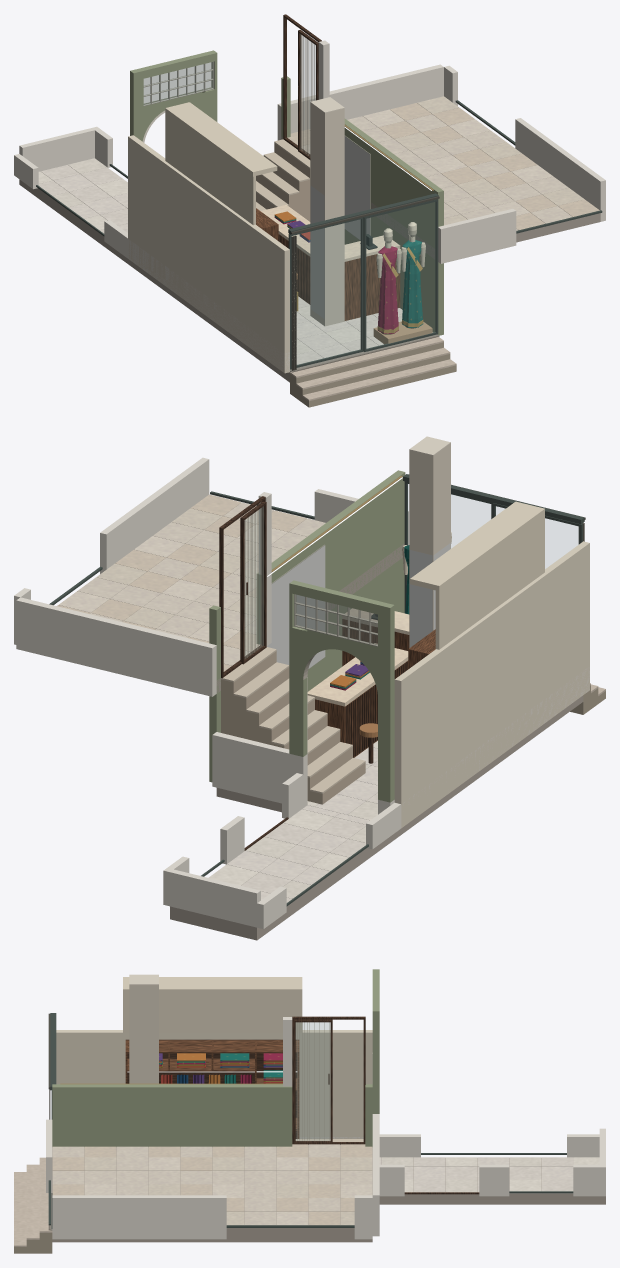
The model's file is Boutique-cove.glb.
The picture shows the model from 3 angles, top to bottom: view 1: azimuth 30°, elevation 25°; view 2: azimuth 150°, elevation 25°; view 3: azimuth 270°, elevation 25°; orthographic projection. The views are drawn at different scales.
Parts seen in each view (by area): view 1: Room shell and flooring, Sliding entrance - fixed glass display, Sliding entrance - closed left glass leaf, Cove lighting, shelf strips and retained soffit, Frontage steps, Stair and sliding door to mezzanine, Existing pillar, Right partition, Rear arched opening to side room C, Cash counter - flush to pillar and wall, Mirror 1 - right partition opposite shelf, Existing glazed transom over rear arch to C (+6 smaller); view 2: Room shell and flooring, Stair and sliding door to mezzanine, Cove lighting, shelf strips and retained soffit, Rear arched opening to side room C, Right partition, Existing pillar, Central sales counter and seating, Mirror 1 - right partition opposite shelf, Existing glazed transom over rear arch to C, Sliding entrance - fixed glass display, Mirror 3 - pillar face toward central counter, Cash counter - flush to pillar and wall (+2 smaller); view 3: Room shell and flooring, Right partition, Cove lighting, shelf strips and retained soffit, Stair and sliding door to mezzanine, Inward-facing saree shelf, Existing pillar, Frontage steps, Rear arched opening to side room C, Sliding entrance - upper rail and street steps.
Boxes of the visible parts, x1,y1,x2,y2 form: Room shell and flooring: (14,64,605,382); Sliding entrance - fixed glass display: (363,199,438,351); Sliding entrance - closed left glass leaf: (288,217,363,369); Cove lighting, shelf strips and retained soffit: (165,102,433,224); Frontage steps: (290,321,456,407); Stair and sliding door to mezzanine: (256,14,329,221); Existing pillar: (310,97,344,326); Right partition: (281,76,443,248); Rear arched opening to side room C: (130,50,217,142); Cash counter - flush to pillar and wall: (344,234,400,320); Mirror 1 - right partition opposite shelf: (344,135,370,240); Existing glazed transom over rear arch to C: (143,61,214,106); Room shell and flooring: (14,457,589,940); Stair and sliding door to mezzanine: (219,492,365,804); Cove lighting, shelf strips and retained soffit: (267,476,544,649); Rear arched opening to side room C: (289,580,394,804); Right partition: (209,470,405,680); Existing pillar: (409,436,450,647); Central sales counter and seating: (307,643,408,763); Mirror 1 - right partition opposite shelf: (266,544,325,669); Existing glazed transom over rear arch to C: (294,594,377,646); Sliding entrance - fixed glass display: (404,481,492,613); Mirror 3 - pillar face toward central counter: (410,550,432,647); Cash counter - flush to pillar and wall: (342,608,409,666); Room shell and flooring: (46,1030,605,1242); Right partition: (52,1084,372,1146); Cove lighting, shelf strips and retained soffit: (60,977,302,1084); Stair and sliding door to mezzanine: (283,1016,365,1144); Inward-facing saree shelf: (125,1039,299,1138); Existing pillar: (129,974,158,1083); Frontage steps: (14,1157,52,1253); Rear arched opening to side room C: (372,969,379,1113); Sliding entrance - upper rail and street steps: (50,1013,56,1230).
Size of the model in its own units: 5.33 by 3.75 by 8.32.
Materials: 58 (22 with a texture image).
